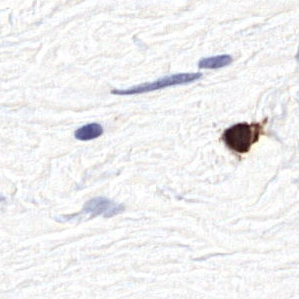Lymphocyte: (223, 121, 263, 154)
